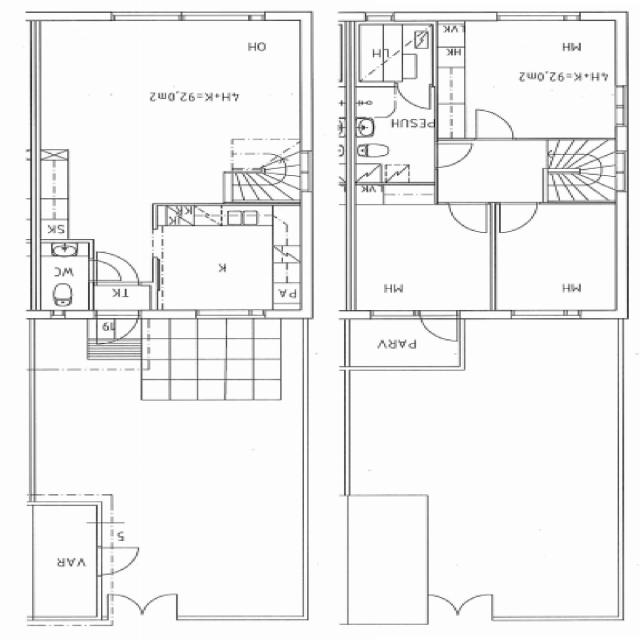door: (492, 198, 546, 235), (470, 105, 521, 143), (443, 198, 494, 235), (449, 590, 503, 622), (417, 308, 463, 344), (98, 544, 146, 577), (431, 138, 477, 170), (394, 80, 436, 112), (99, 314, 143, 344), (422, 590, 463, 622), (142, 590, 184, 619), (106, 590, 148, 618), (90, 258, 126, 284)
window: (506, 306, 597, 321), (190, 305, 267, 322), (494, 10, 576, 24), (608, 83, 631, 132), (111, 9, 183, 24), (182, 10, 256, 23), (364, 308, 421, 322), (361, 10, 400, 22)
zone: (36, 17, 309, 201), (434, 499, 622, 618), (445, 18, 619, 140), (349, 194, 495, 312), (155, 203, 302, 315), (493, 203, 617, 314), (350, 82, 438, 184), (31, 500, 105, 620), (343, 316, 459, 370), (346, 23, 434, 84), (35, 242, 93, 314), (92, 280, 156, 310)
